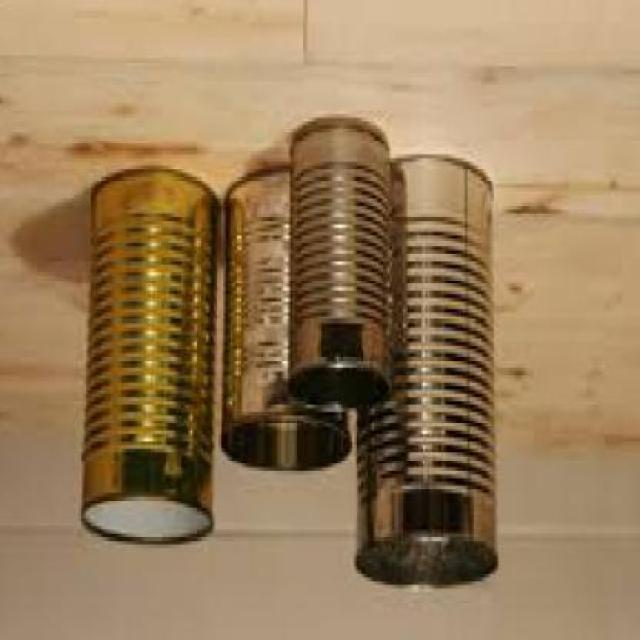METAL: (357, 158, 503, 596), (82, 169, 220, 548), (223, 162, 354, 475), (290, 117, 396, 412)
